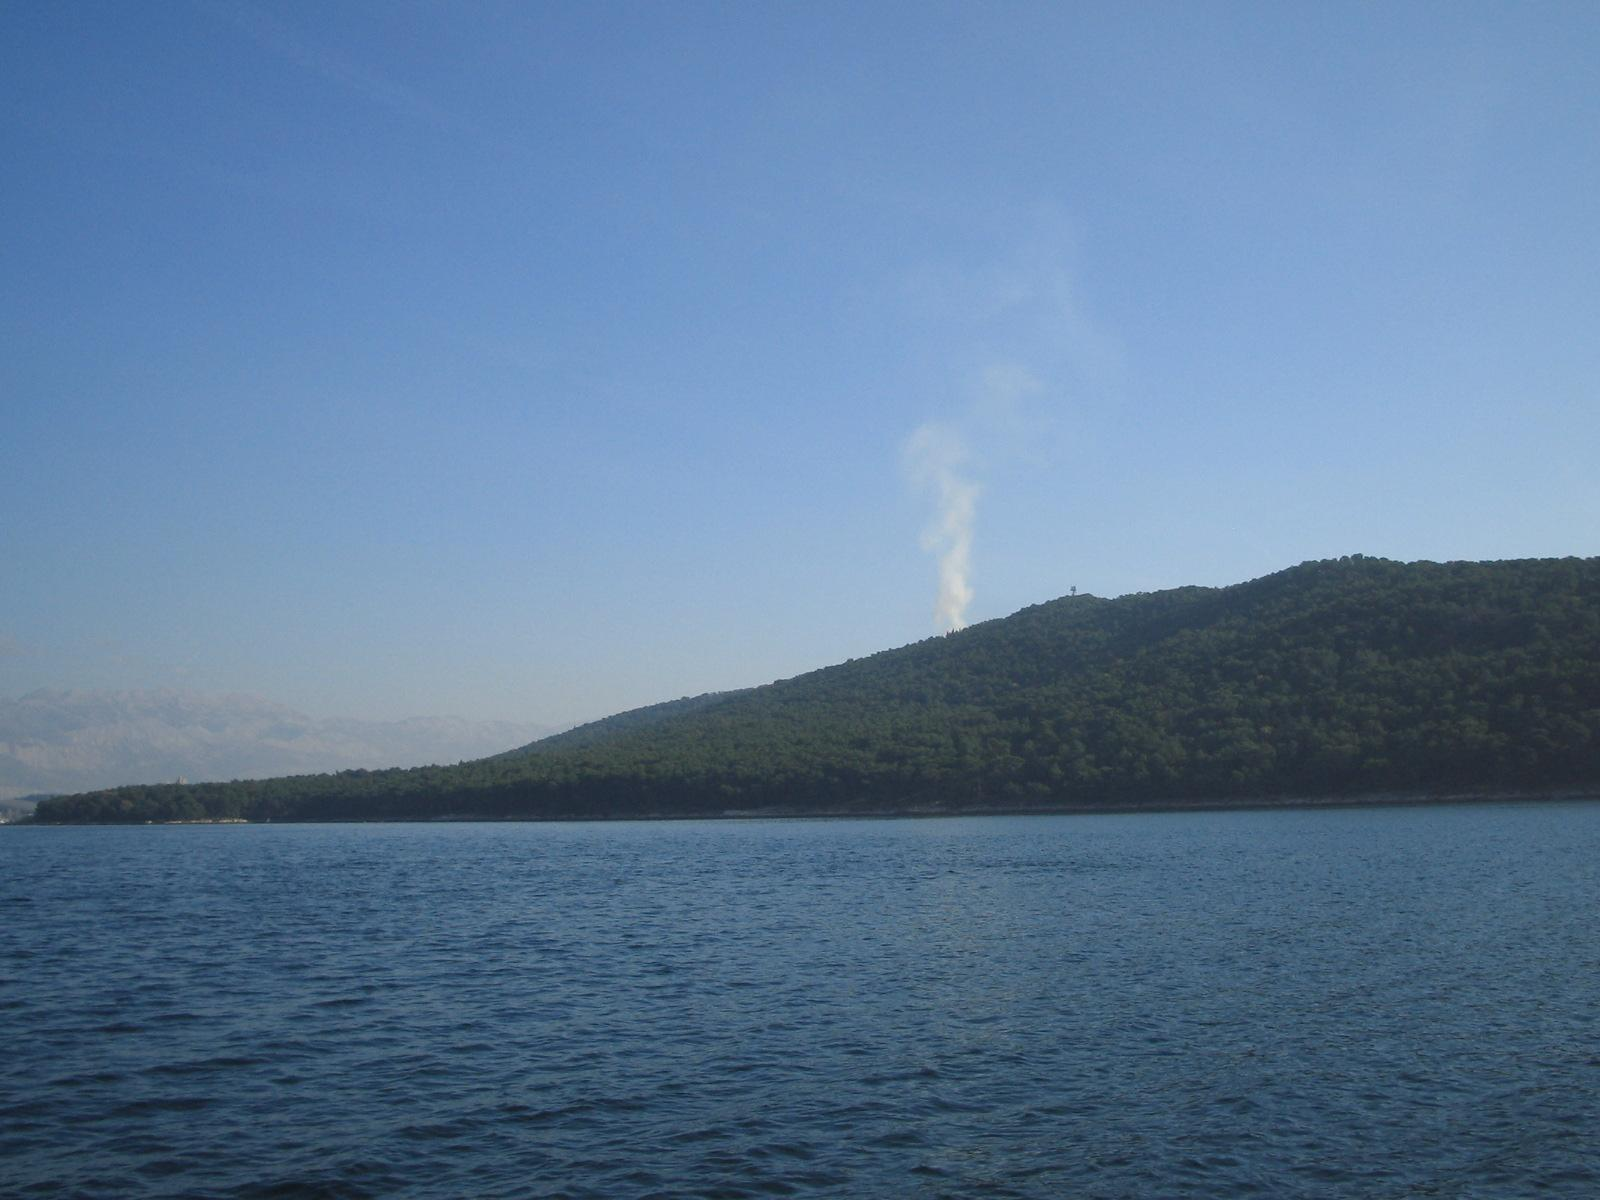Smoke: (891, 391, 986, 632)
